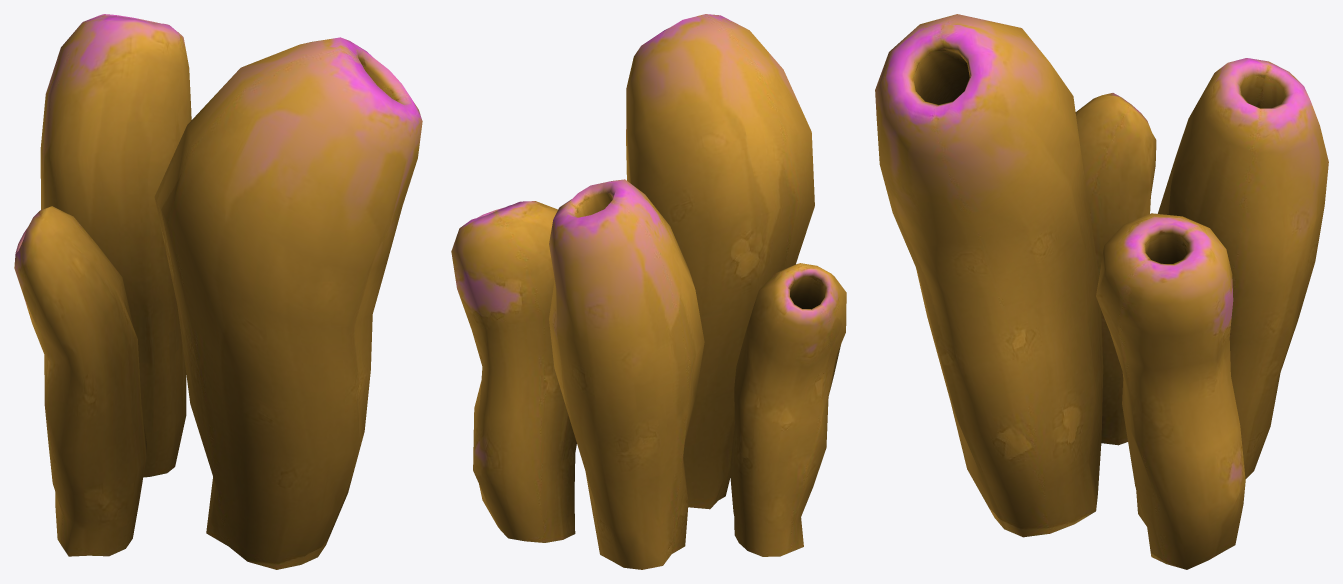
Rendered from 03-BVThick.fbx.
The picture shows the model from 3 angles, left to right: view 1: azimuth 30°, elevation 25°; view 2: azimuth 150°, elevation 25°; view 3: azimuth 270°, elevation 25°; orthographic projection. The views are drawn at different scales.
Parts seen in each view (by area): view 1: 03-BVThick_LOD00; view 2: 03-BVThick_LOD00; view 3: 03-BVThick_LOD00.
Part boxes in pixels (x1,y1,x2,y2): 03-BVThick_LOD00: [14, 14, 422, 569]; 03-BVThick_LOD00: [451, 14, 846, 569]; 03-BVThick_LOD00: [875, 14, 1328, 569].
Size of what is drawn, in the model's own units: 61.45 by 78.43 by 64.36.
